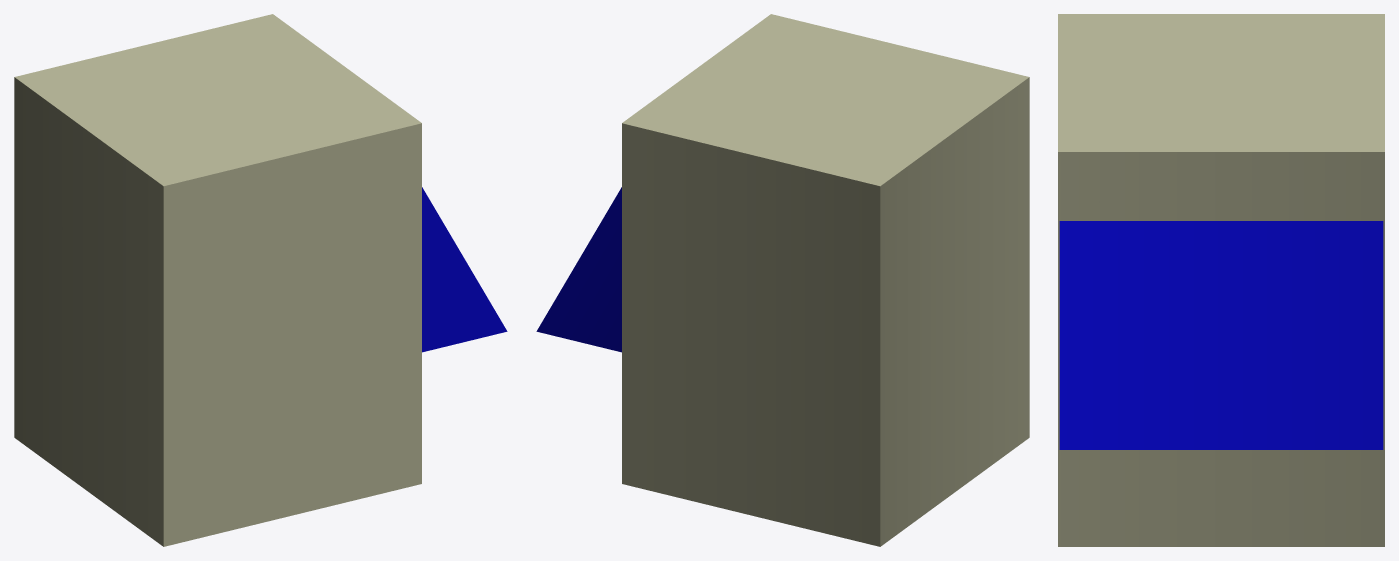
File: strip-3-low.glb
The picture shows the model from 3 angles, left to right: view 1: azimuth 30°, elevation 25°; view 2: azimuth 150°, elevation 25°; view 3: azimuth 270°, elevation 25°; orthographic projection. The views are drawn at different scales.
Parts seen in each view (by area): view 1: mesh0; view 2: mesh0; view 3: mesh0.
Part boxes in pixels (x1,y1,x2,y2): mesh0: (14, 14, 507, 546); mesh0: (536, 14, 1029, 546); mesh0: (1058, 14, 1384, 546).
Size of the model in its own units: 0.8 by 0.8 by 0.6.
